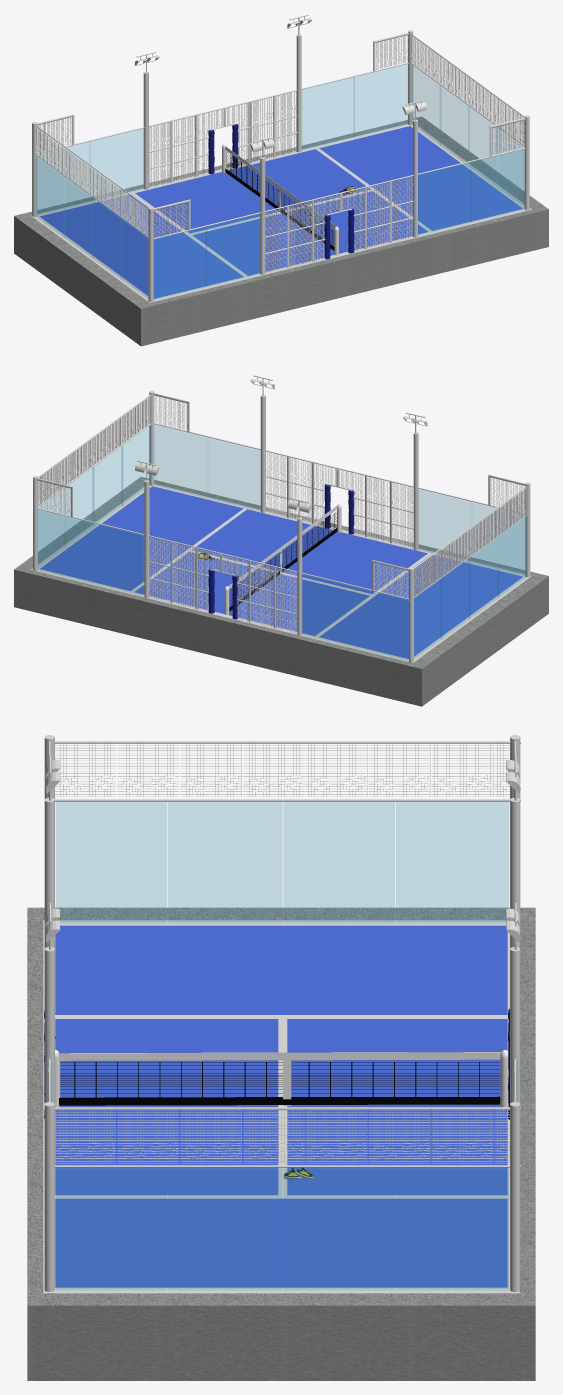
Rendered from padel_court_compressed.glb.
3 renders of one model, top to bottom at view 1: azimuth 30°, elevation 25°; view 2: azimuth 150°, elevation 25°; view 3: azimuth 270°, elevation 25°, orthographic. The views are drawn at different scales.
Parts seen in each view (by area): view 1: ReteCampoPiccolo1.020_Padelwqhite_0, VetroPadel.001_Plastic_0, CampoPadel_Cemento_0; view 2: ReteCampoPiccolo1.020_Padelwqhite_0, VetroPadel.001_Plastic_0, CampoPadel_Cemento_0; view 3: ReteCampoPiccolo1.020_Padelwqhite_0, VetroPadel.001_Plastic_0, CampoPadel_Cemento_0.
Part boxes in pixels (bbox=[...]): ReteCampoPiccolo1.020_Padelwqhite_0: bbox=[31, 14, 531, 302]; VetroPadel.001_Plastic_0: bbox=[35, 64, 524, 299]; CampoPadel_Cemento_0: bbox=[14, 116, 548, 346]; ReteCampoPiccolo1.020_Padelwqhite_0: bbox=[31, 375, 531, 662]; VetroPadel.001_Plastic_0: bbox=[38, 425, 526, 660]; CampoPadel_Cemento_0: bbox=[14, 476, 548, 706]; ReteCampoPiccolo1.020_Padelwqhite_0: bbox=[43, 735, 520, 1293]; VetroPadel.001_Plastic_0: bbox=[51, 802, 517, 1290]; CampoPadel_Cemento_0: bbox=[27, 907, 535, 1380].
Bounding box in the file's own units: 4.93 × 1.99 × 2.66.
5 materials, 5 textured.
